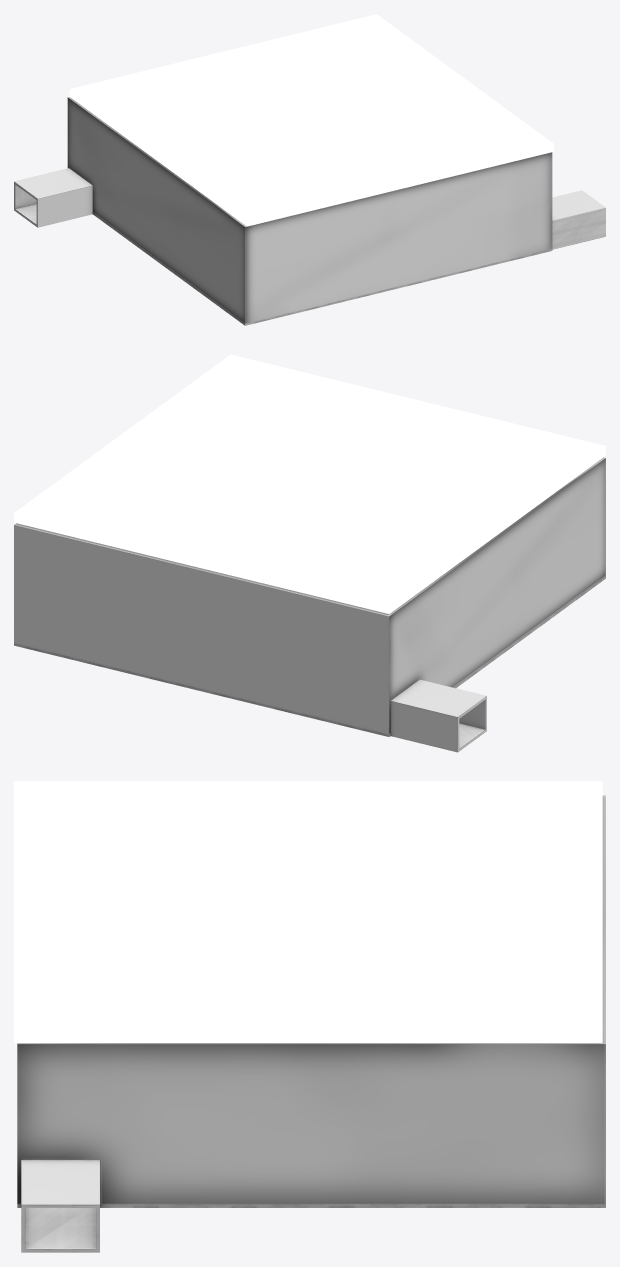
The model's file is vr_art_gallery_4_baked.glb.
3 views of the same model, one above another, from view 1: azimuth 30°, elevation 25°; view 2: azimuth 150°, elevation 25°; view 3: azimuth 270°, elevation 25° (orthographic). The views are drawn at different scales.
Visible parts, largest first — view 1: Box001, 3dSolid (×2); view 2: Box001, 3dSolid (×2); view 3: Box001, 3dSolid (×2).
Boxes of the visible parts, x1,y1,x2,y2 form: Box001: [69, 14, 553, 226]; 3dSolid (×2): [14, 97, 605, 325]; Box001: [14, 354, 605, 613]; 3dSolid (×2): [14, 457, 605, 752]; Box001: [14, 781, 602, 1043]; 3dSolid (×2): [17, 795, 605, 1252].
Size of the model in its own units: 30.72 by 7.57 by 22.74.
Materials: 5 (4 with a texture image).
